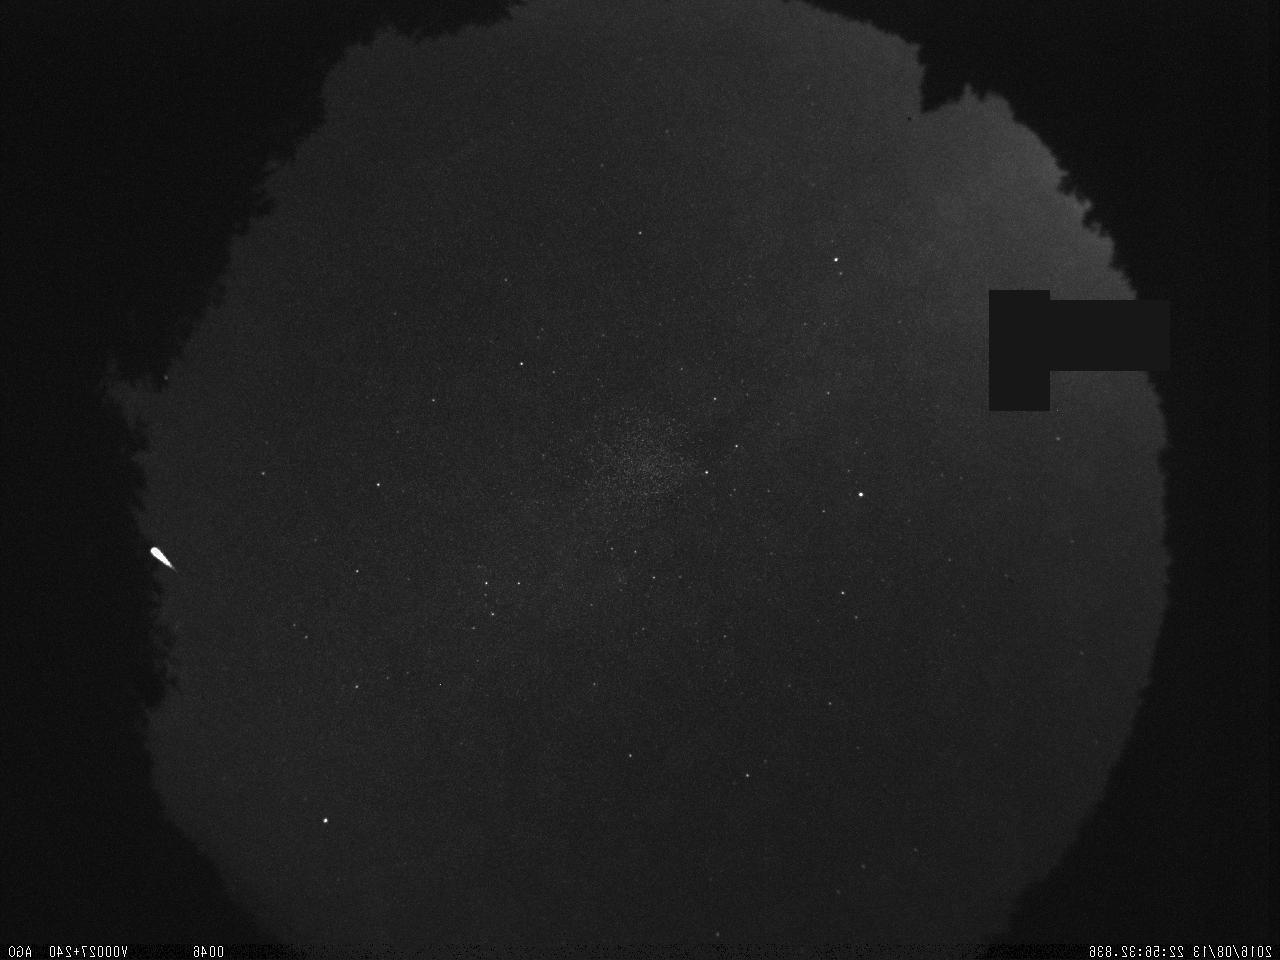meteor: (149, 534, 181, 583)
